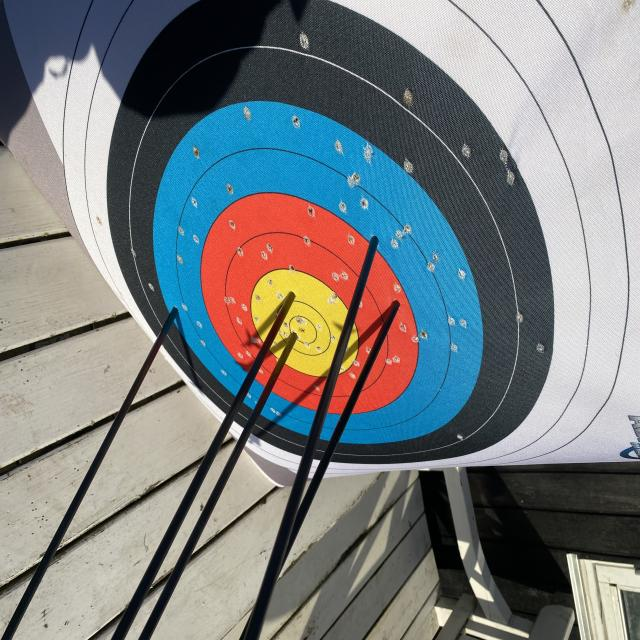Arrow_Blue: (356, 223, 389, 260), (159, 302, 193, 329)
Arrow_Red: (386, 290, 408, 321)
Arrow_Yellow: (286, 320, 308, 358), (278, 288, 303, 313)
